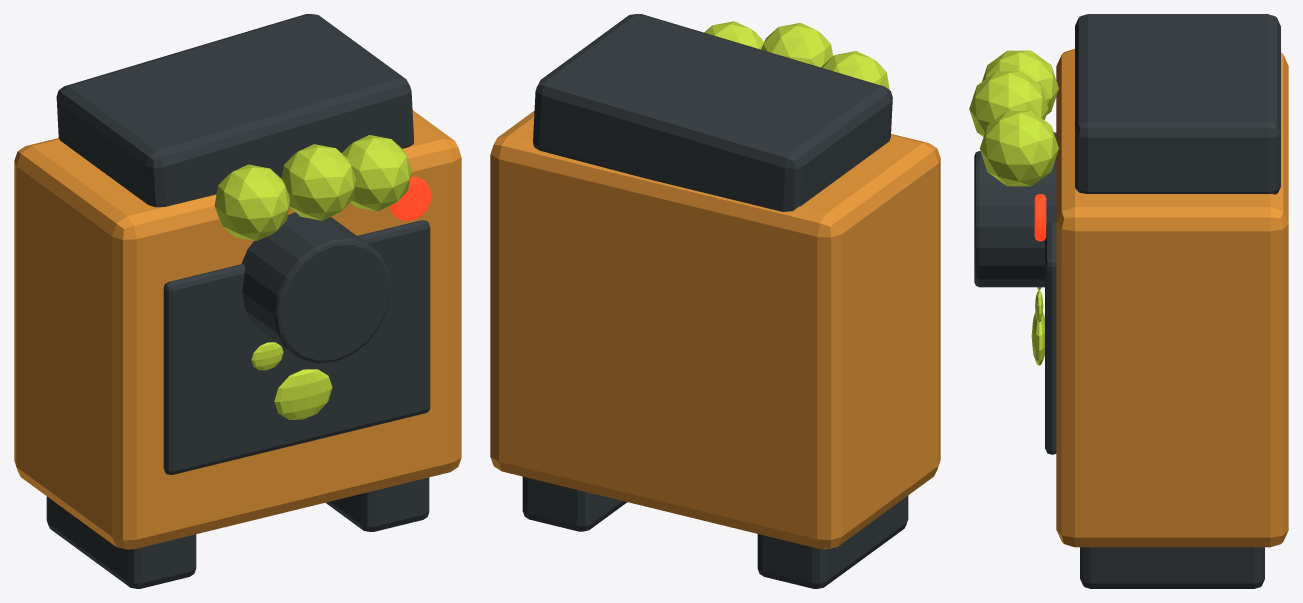
The model's file is salmon_creek_ball_return.glb.
3 renders of one model, left to right at view 1: azimuth 30°, elevation 25°; view 2: azimuth 150°, elevation 25°; view 3: azimuth 270°, elevation 25°, orthographic.
Visible parts, largest first — view 1: BallReturnBody, BallReturnTopHopper, BallReturnFrontInset, BallReturnChute, BallReturnDisplayBalls, BallReturnFootLeft, BallReturnFootRight, BallReturnPawBadge, BallReturnStatus; view 2: BallReturnBody, BallReturnTopHopper, BallReturnFootLeft, BallReturnDisplayBalls, BallReturnFootRight; view 3: BallReturnBody, BallReturnTopHopper, BallReturnDisplayBalls, BallReturnChute, BallReturnFootRight, BallReturnFrontInset, BallReturnPawBadge, BallReturnStatus.
Boxes of the visible parts, left/top/right/bottom form: BallReturnBody: left=14, top=110, right=461, bottom=549; BallReturnTopHopper: left=56, top=14, right=414, bottom=207; BallReturnFrontInset: left=163, top=220, right=430, bottom=474; BallReturnChute: left=241, top=212, right=391, bottom=363; BallReturnDisplayBalls: left=214, top=135, right=411, bottom=241; BallReturnFootLeft: left=46, top=496, right=196, bottom=588; BallReturnFootRight: left=325, top=477, right=429, bottom=531; BallReturnPawBadge: left=251, top=342, right=332, bottom=419; BallReturnStatus: left=390, top=177, right=431, bottom=220; BallReturnBody: left=490, top=110, right=940, bottom=549; BallReturnTopHopper: left=533, top=14, right=892, bottom=211; BallReturnFootLeft: left=757, top=495, right=908, bottom=588; BallReturnDisplayBalls: left=704, top=21, right=889, bottom=89; BallReturnFootRight: left=522, top=476, right=627, bottom=531; BallReturnBody: left=1056, top=49, right=1288, bottom=547; BallReturnTopHopper: left=1075, top=14, right=1280, bottom=194; BallReturnDisplayBalls: left=969, top=50, right=1058, bottom=186; BallReturnChute: left=974, top=151, right=1056, bottom=287; BallReturnFootRight: left=1080, top=547, right=1264, bottom=588; BallReturnFrontInset: left=1045, top=132, right=1056, bottom=454; BallReturnPawBadge: left=1031, top=287, right=1044, bottom=365; BallReturnStatus: left=1034, top=194, right=1046, bottom=241.
Size of what is drawn, in the model's own units: 1.55 by 1.91 by 1.21.
